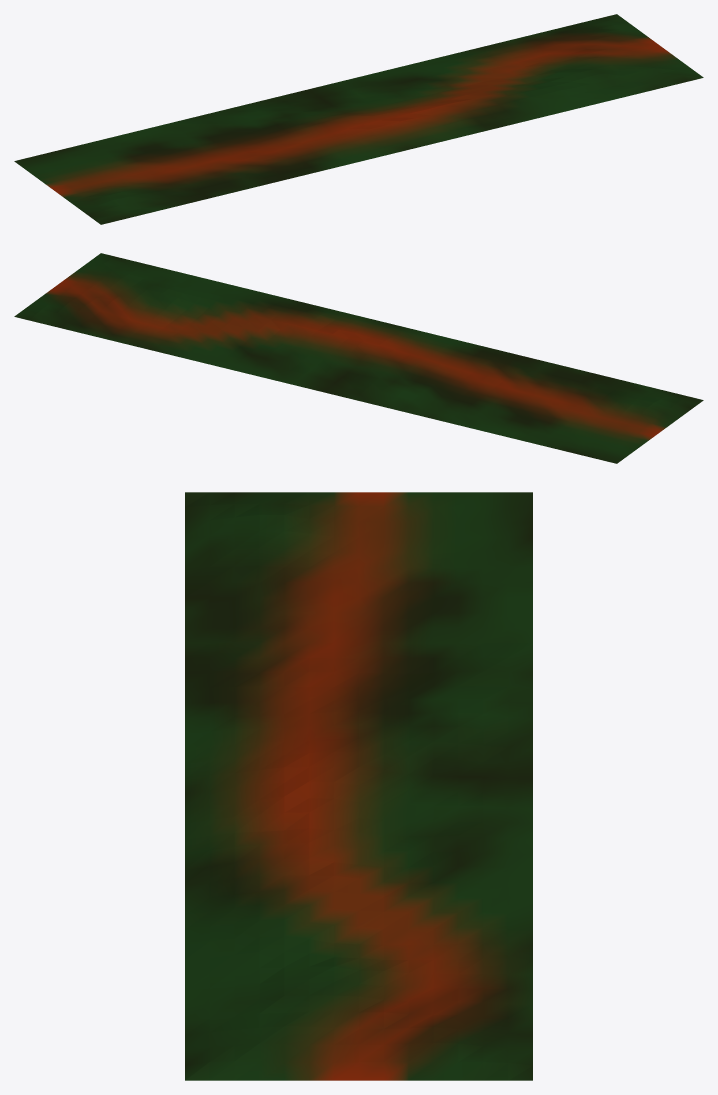
Rendered from floor.obj.
3 views of the same model, one above another, from view 1: azimuth 30°, elevation 25°; view 2: azimuth 150°, elevation 25°; view 3: azimuth 270°, elevation 25° (orthographic). The views are drawn at different scales.
Parts seen in each view (by area): view 1: floor; view 2: floor; view 3: floor.
Part boxes in pixels (left/top/right/bottom): floor: left=14, top=14, right=703, bottom=224; floor: left=14, top=253, right=703, bottom=463; floor: left=185, top=492, right=532, bottom=1080.
Size of the model in its own units: 2 by 0.02 by 0.5.
